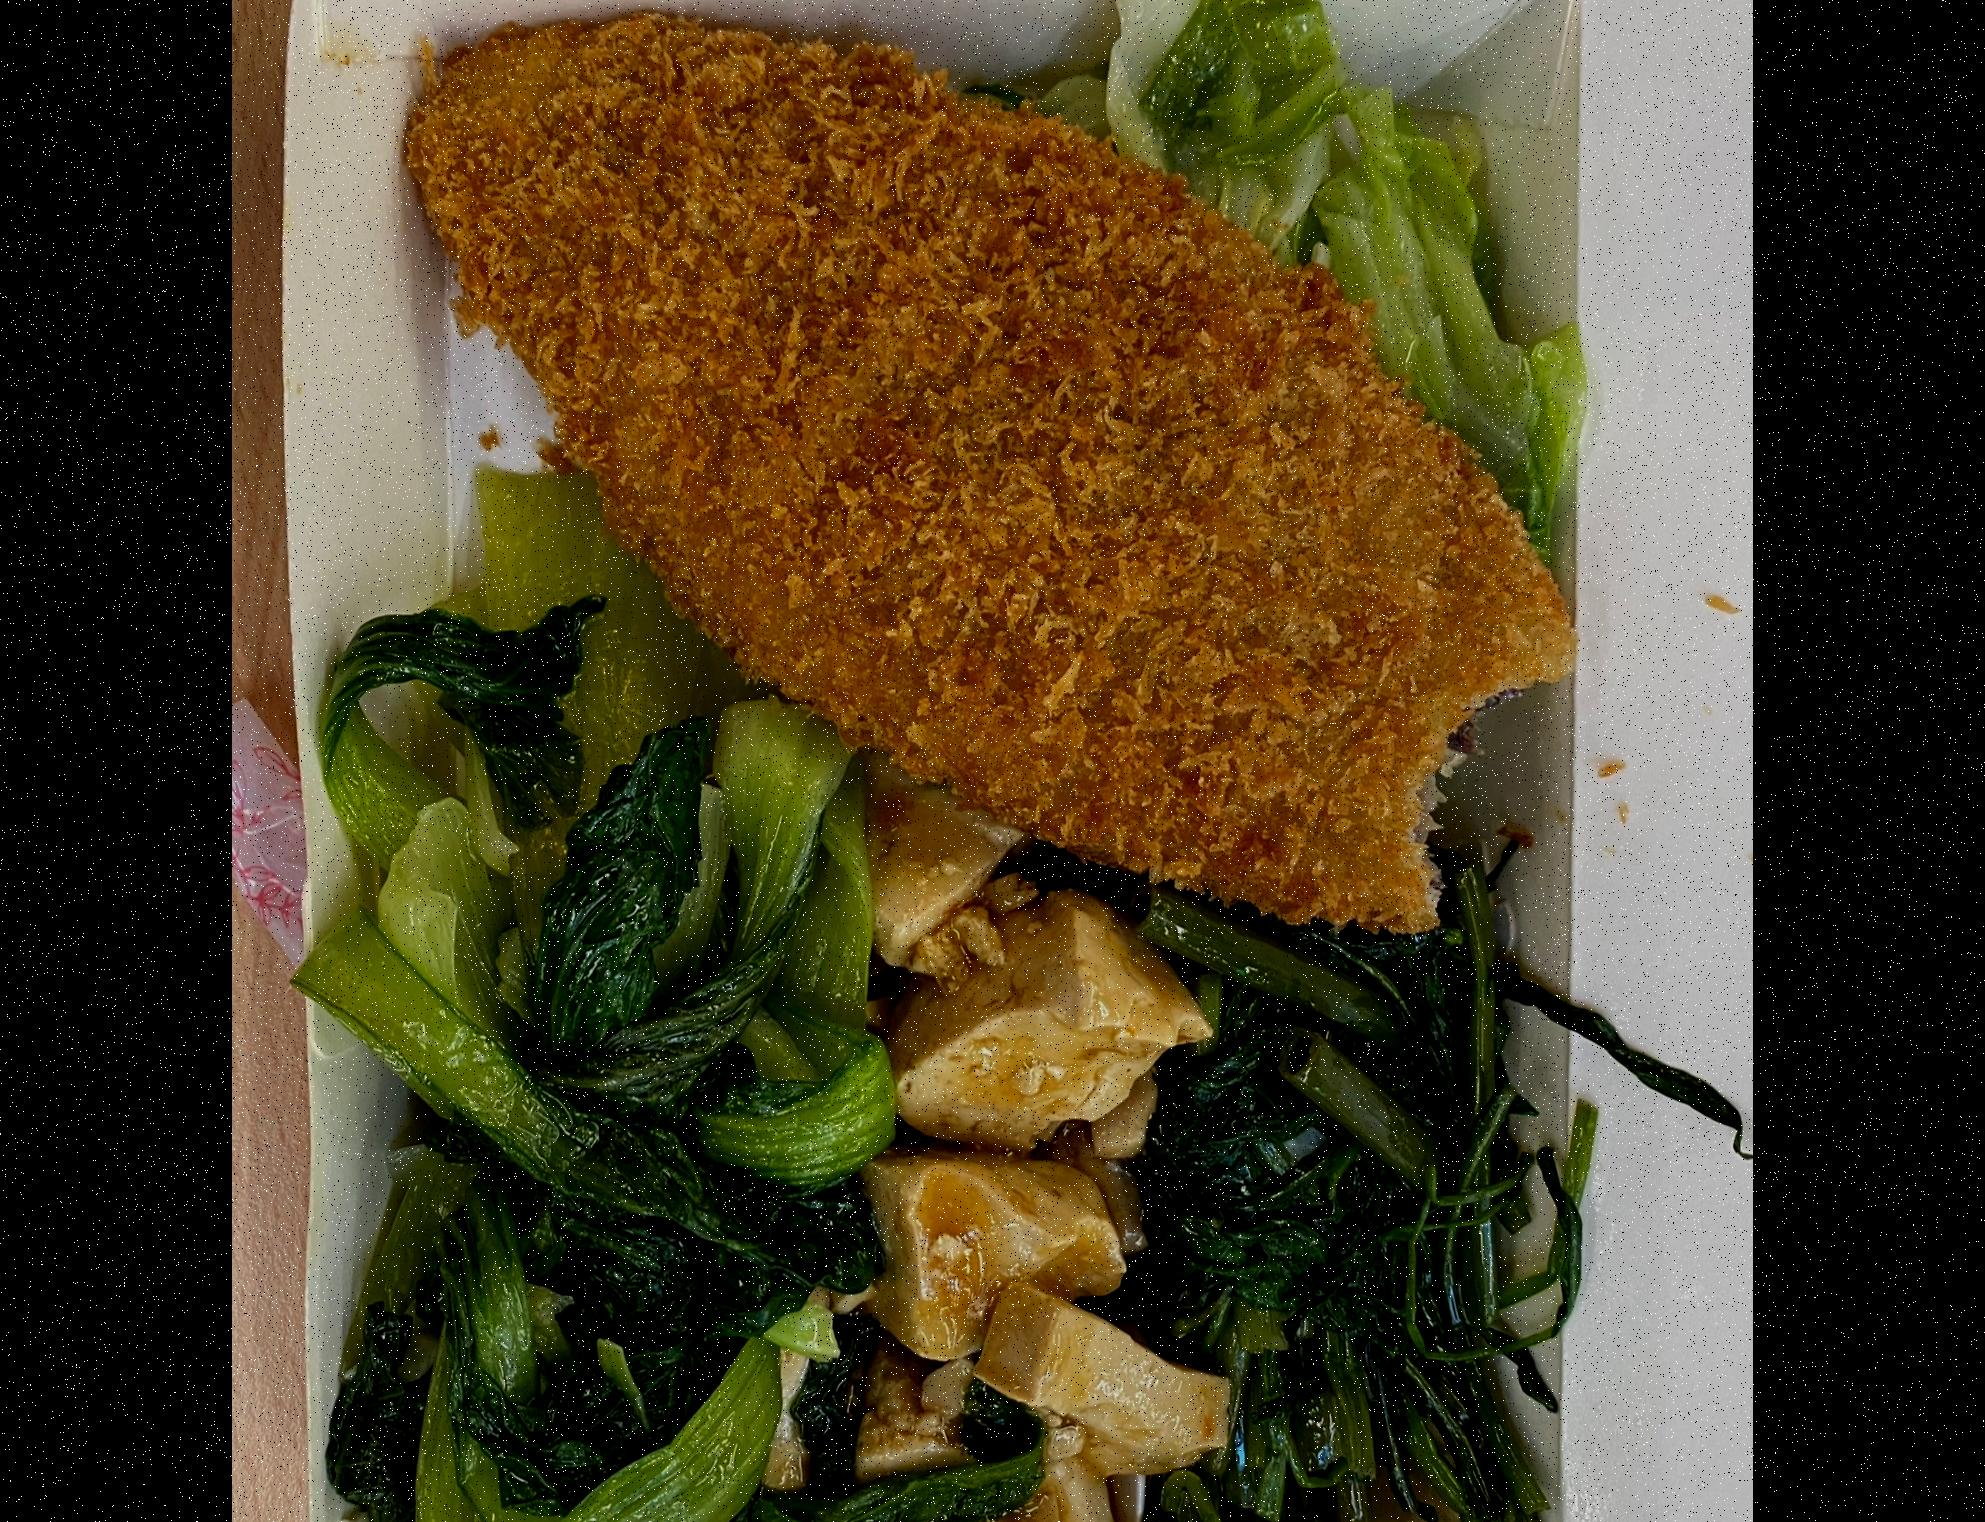big grilled chicken leg: (249, 0, 1669, 1522)
braised fish fillet: (347, 695, 879, 1522), (997, 0, 1613, 512), (1151, 851, 1589, 1522), (865, 846, 1207, 1522)
braised pork: (393, 0, 1589, 950)
